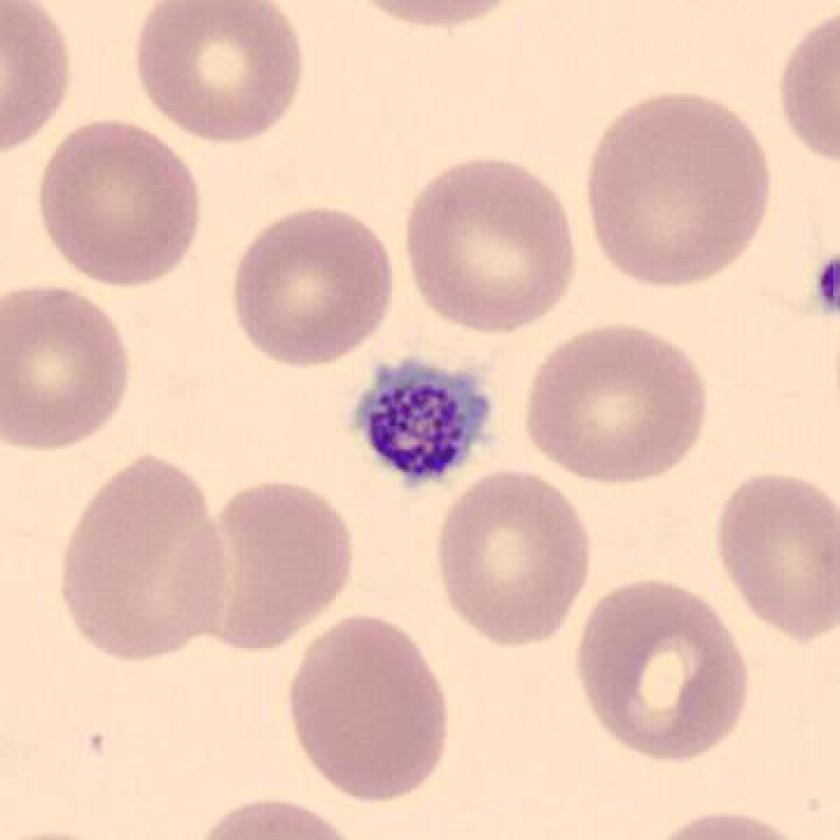platelets: (360, 358, 505, 499)
